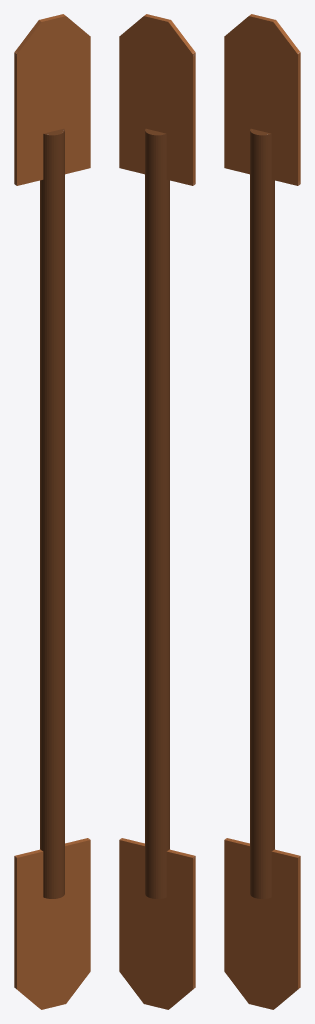
The model's file is Oar.fbx.
The picture shows the model from 3 angles, left to right: view 1: azimuth 30°, elevation 25°; view 2: azimuth 150°, elevation 25°; view 3: azimuth 330°, elevation 25°; orthographic projection.
Parts seen in each view (by area): view 1: Cube; view 2: Cube; view 3: Cube.
Boxes of the visible parts, <box> form: Cube: <box>14,14,90,1009</box>; Cube: <box>119,14,195,1009</box>; Cube: <box>224,14,300,1009</box>.
Bounding box in the file's own units: 29.25 × 375 × 8.52.
